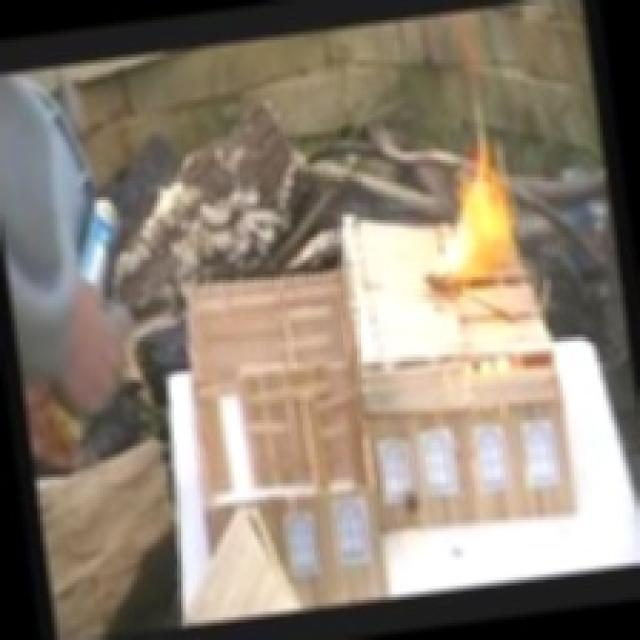fire: (424, 136, 530, 273)
